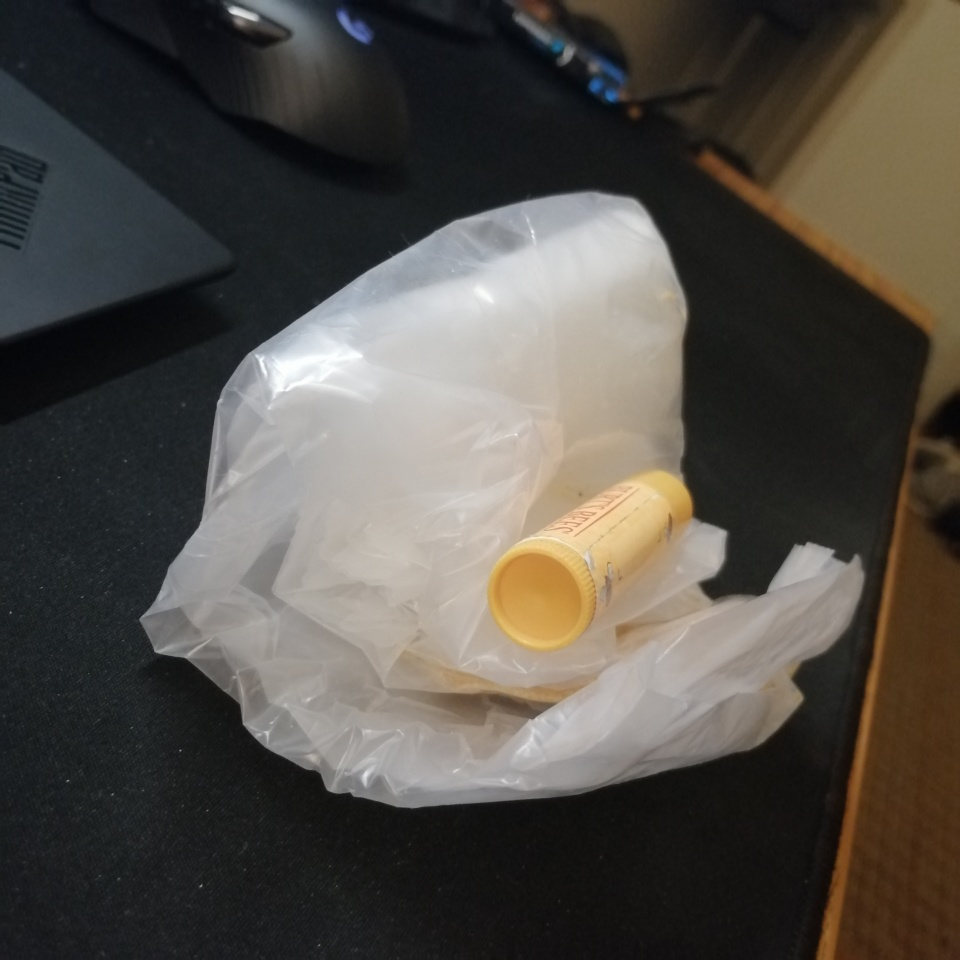chapstick: (489, 468, 694, 652)
